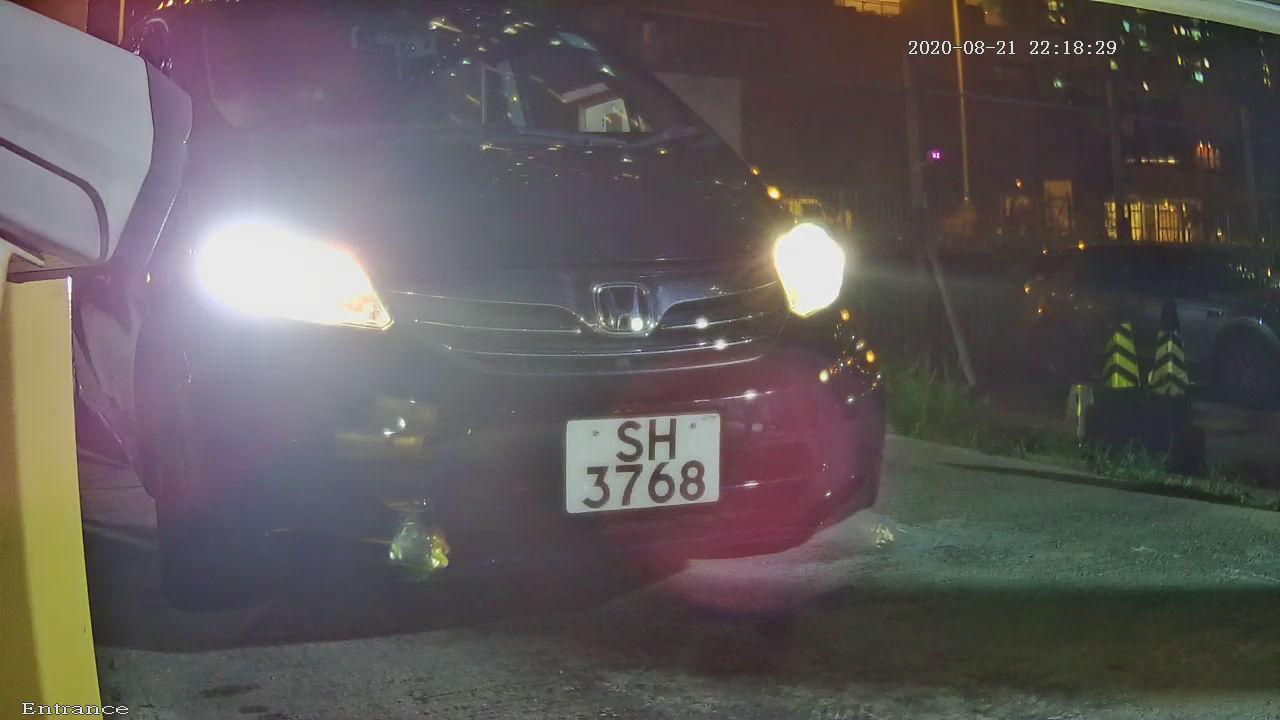Car: (23, 1, 983, 685)
License Plate: (549, 396, 743, 534)
